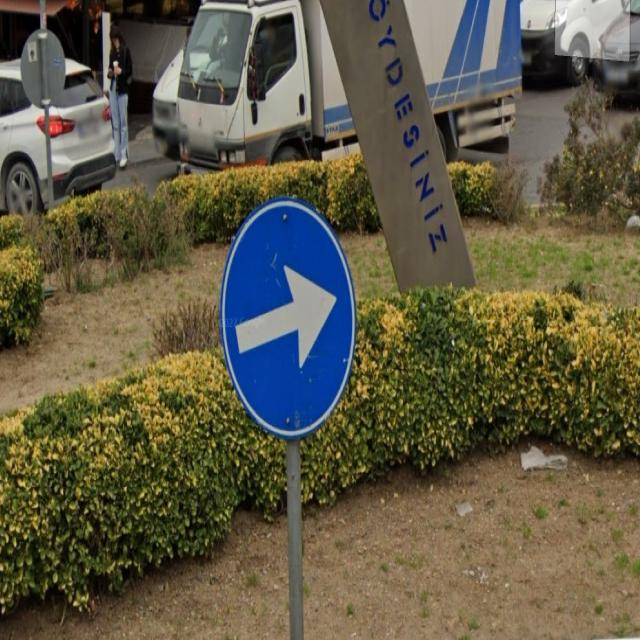Turn Right: (217, 205, 357, 431)
